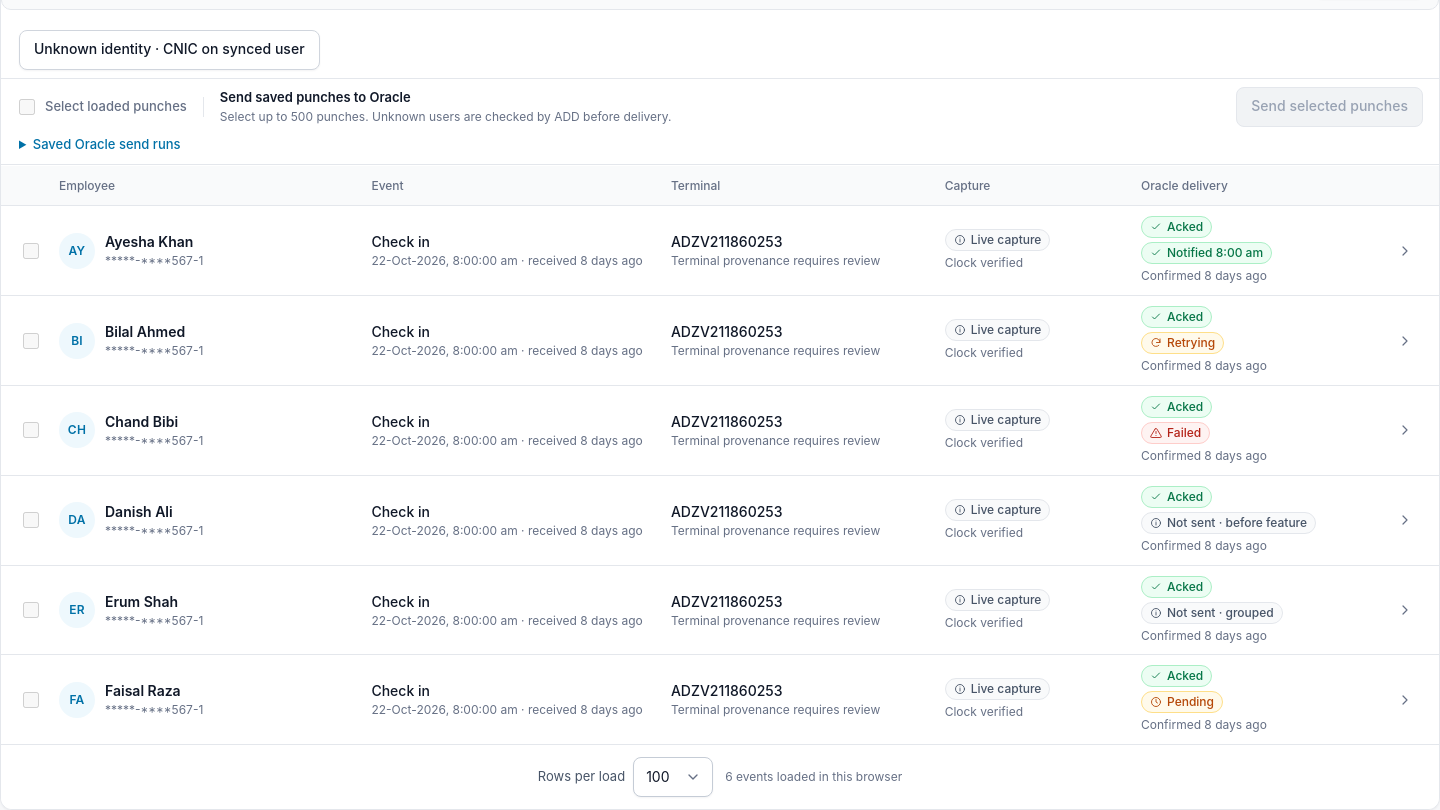
Test case: Phone notification pills on the Attendance page › offers no retry for a notification that was not sent
(page scrolled)
Click the button with aria-label "Phone notification:" at x=1228, y=523, box [1141, 512, 1316, 534]
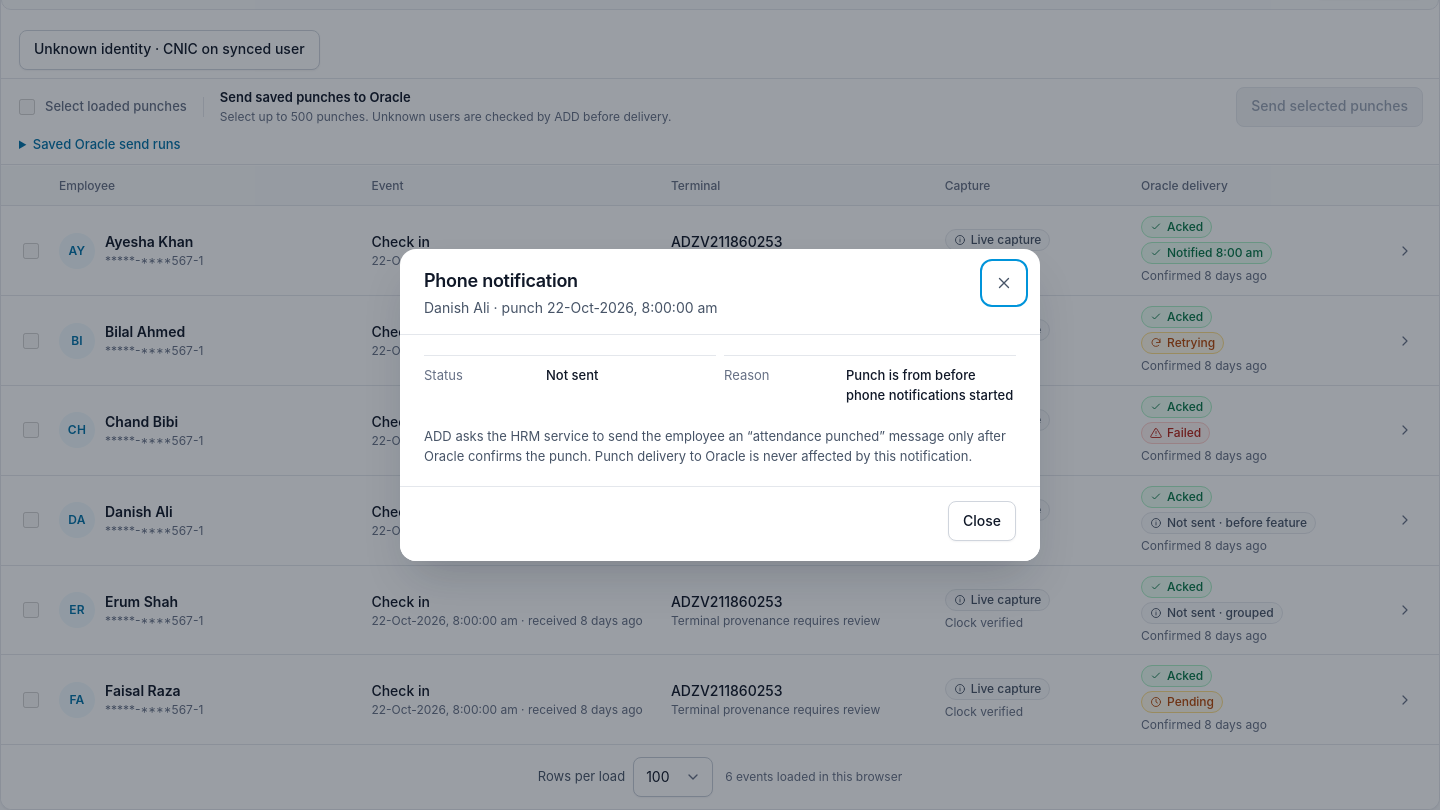
Check: the dialog "Phone notification" shows "Punch is from before phone notifications started", box [846, 367, 1013, 403]
